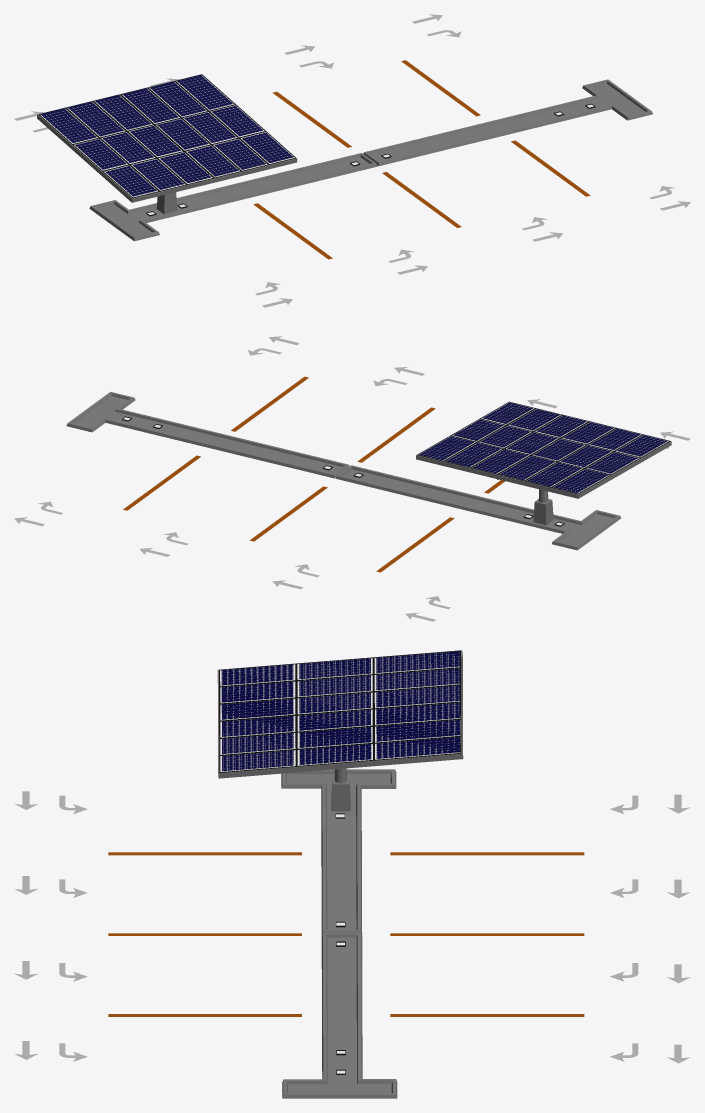
The picture shows the model from 3 angles, top to bottom: view 1: azimuth 30°, elevation 25°; view 2: azimuth 150°, elevation 25°; view 3: azimuth 270°, elevation 25°; orthographic projection. The views are drawn at different scales.
Visible parts, largest first — view 1: Solar Canopy parking001, Garden, Lines, Arrow; view 2: Solar Canopy parking001, Garden, Lines, Arrow; view 3: Solar Canopy parking001, Garden, Lines, Arrow.
Part boxes in pixels (x1,y1,x2,y2): Solar Canopy parking001: (37, 74, 297, 214); Garden: (89, 79, 652, 241); Lines: (253, 60, 590, 259); Arrow: (14, 14, 690, 307); Solar Canopy parking001: (416, 401, 671, 525); Garden: (66, 391, 620, 550); Lines: (123, 376, 505, 572); Arrow: (14, 336, 690, 621); Solar Canopy parking001: (217, 650, 463, 811); Garden: (281, 769, 397, 1098); Lines: (108, 852, 584, 1016); Arrow: (14, 791, 690, 1063).
Size of what is drawn, in the model's own units: 3136 by 455 by 2615.
